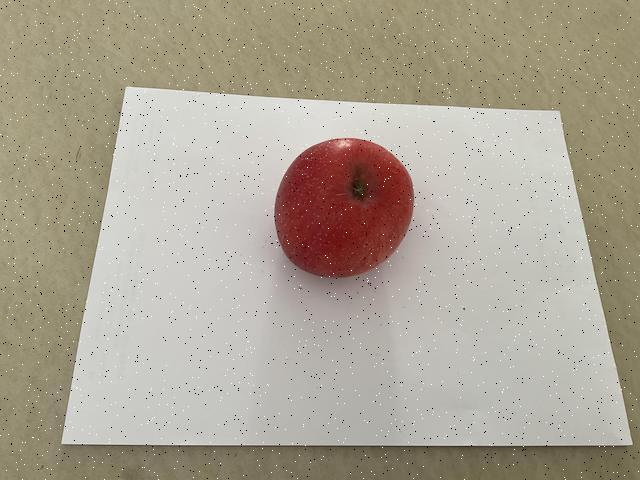apple: (269, 132, 418, 282)
